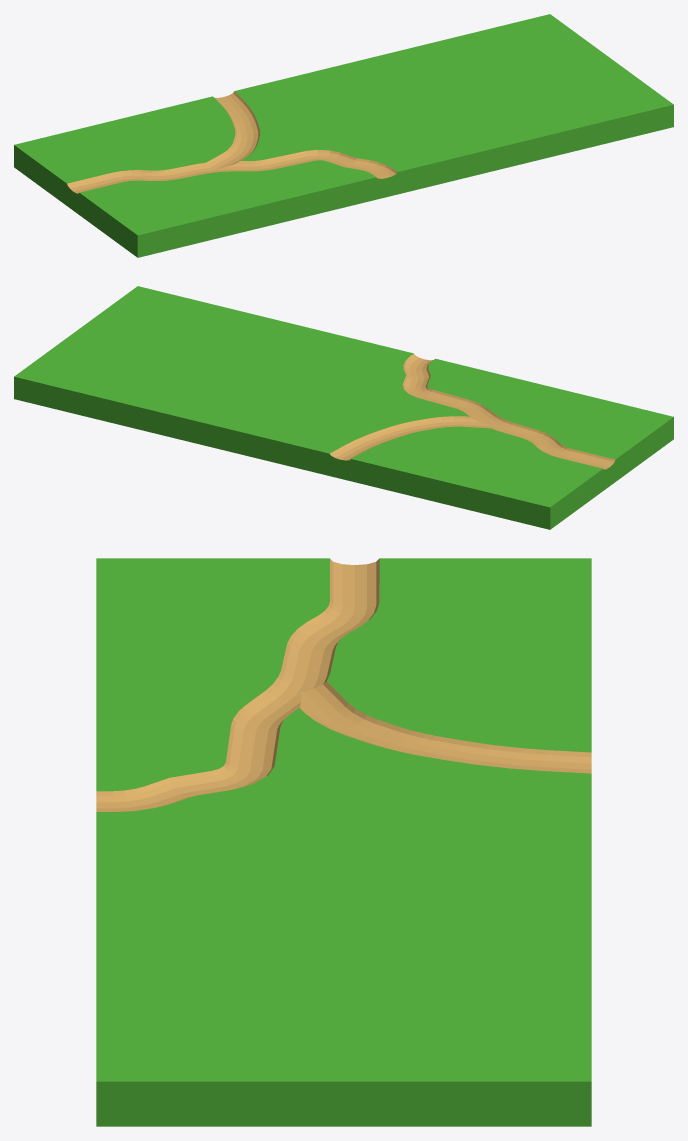
The model's file is way2.fbx.
3 views of the same model, one above another, from view 1: azimuth 30°, elevation 25°; view 2: azimuth 150°, elevation 25°; view 3: azimuth 270°, elevation 25° (orthographic). The views are drawn at different scales.
Parts seen in each view (by area): view 1: ground; view 2: ground; view 3: ground.
Part boxes in pixels (left/top/right/bottom): ground: left=14, top=14, right=673, bottom=257; ground: left=14, top=286, right=673, bottom=529; ground: left=96, top=558, right=591, bottom=1126.
Size of the model in its own units: 5000 by 200 by 2000.
